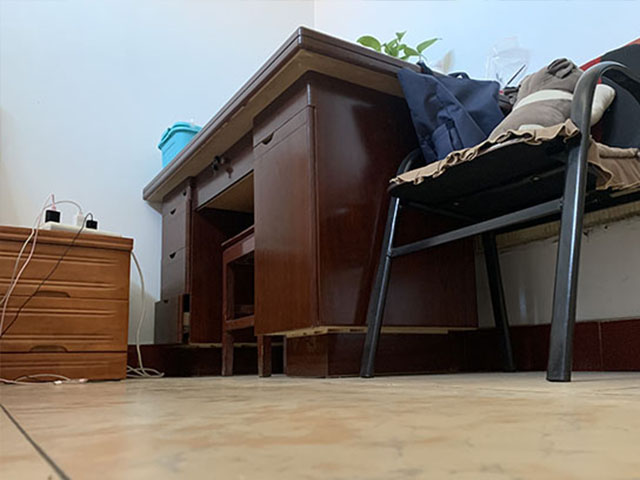cabinet: (1, 225, 134, 383)
stool: (358, 36, 640, 383), (215, 223, 272, 379)
table: (140, 23, 490, 381)
wire: (131, 251, 166, 378), (1, 372, 88, 388)
